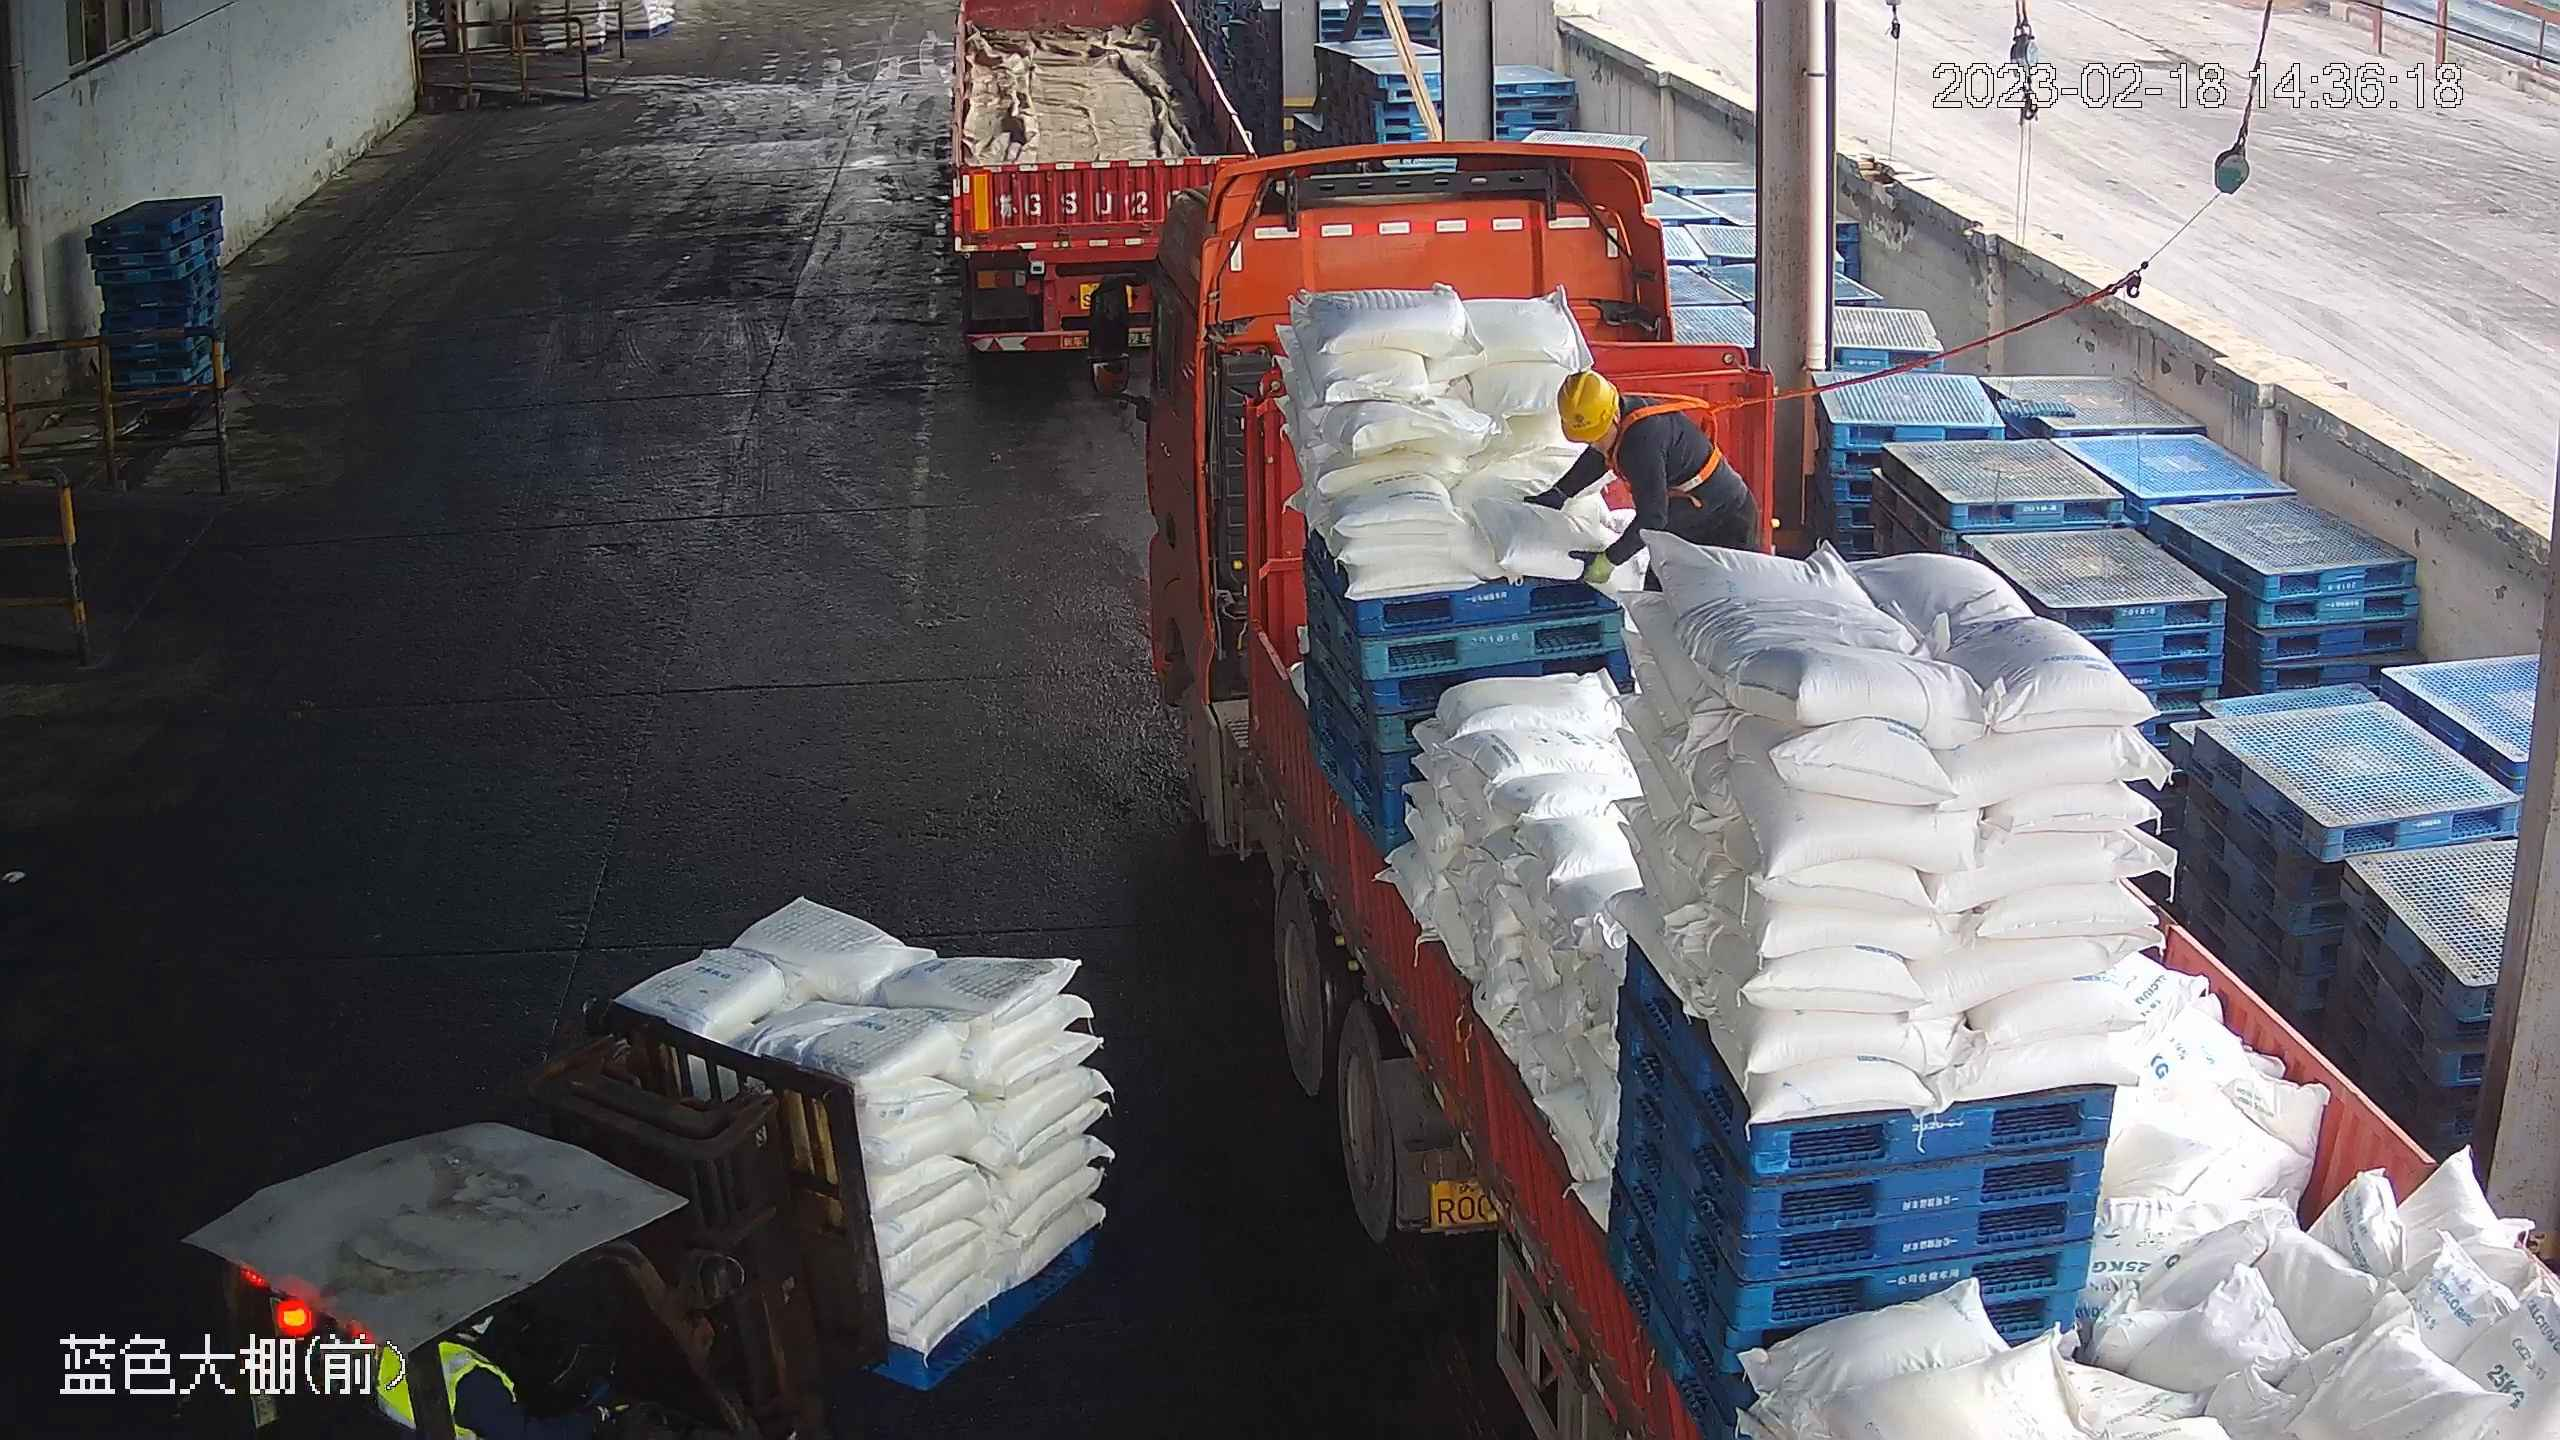belt: (1607, 389, 1757, 498), (1556, 369, 1712, 467)
helmet: (1556, 368, 1620, 443)
people: (1521, 367, 1759, 596)
truck: (1138, 143, 2560, 1440)
